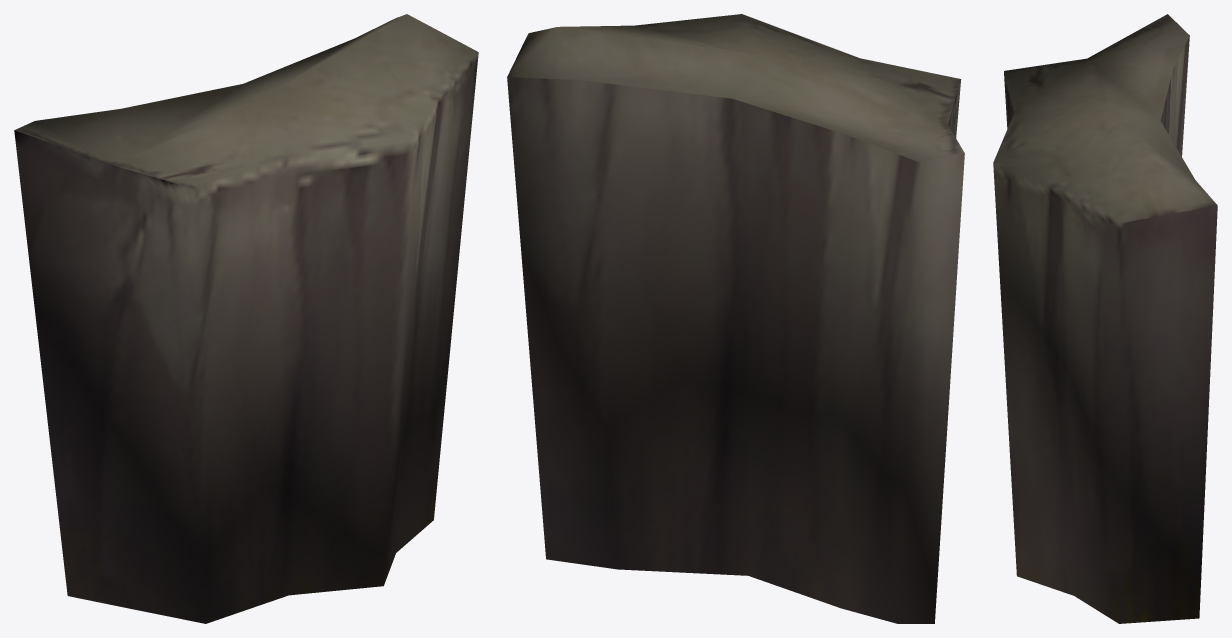
The model's file is ClifRocks.FBX.
3 renders of one model, left to right at view 1: azimuth 30°, elevation 25°; view 2: azimuth 150°, elevation 25°; view 3: azimuth 270°, elevation 25°, orthographic. The views are drawn at different scales.
Visible parts, largest first — view 1: CliffRock1; view 2: CliffRock1; view 3: CliffRock1.
Boxes of the visible parts, x1=… form: CliffRock1: x1=14, y1=14, x2=478, y2=623; CliffRock1: x1=507, y1=14, x2=964, y2=623; CliffRock1: x1=993, y1=14, x2=1217, y2=623.
Bounding box in the file's own units: 690 × 735 × 329.
